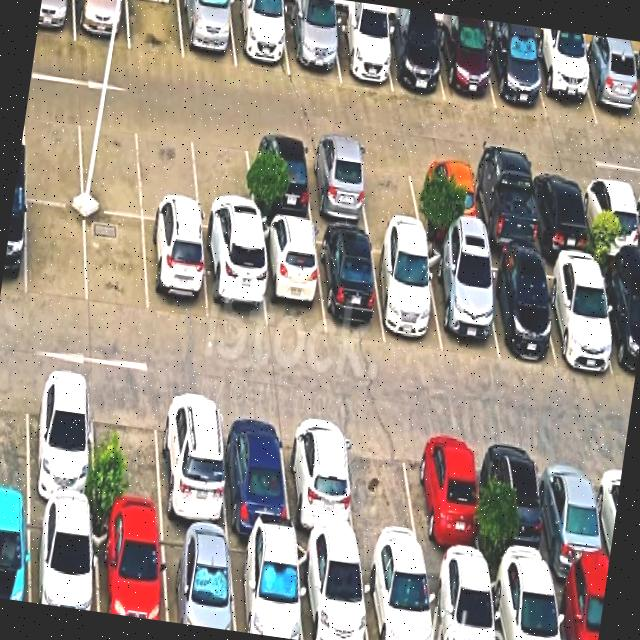empty: (342, 420, 423, 559), (93, 382, 163, 523), (79, 109, 142, 218), (192, 126, 255, 235), (139, 118, 200, 225), (86, 211, 148, 315), (23, 101, 82, 207), (27, 201, 87, 304), (357, 147, 422, 234), (0, 369, 28, 501), (127, 0, 184, 59)
occupied: (410, 427, 484, 568), (282, 411, 357, 549), (158, 392, 228, 532), (220, 401, 291, 538), (538, 443, 608, 581), (484, 435, 552, 574), (28, 371, 94, 512), (541, 256, 616, 373), (426, 247, 499, 360), (480, 253, 555, 362), (371, 237, 442, 352), (161, 525, 236, 631), (94, 516, 167, 622), (229, 535, 302, 640), (315, 229, 384, 340), (259, 222, 325, 335), (30, 505, 98, 612), (296, 544, 368, 640), (143, 220, 208, 321), (468, 162, 538, 254), (201, 230, 266, 329), (360, 555, 433, 640), (413, 155, 480, 244), (247, 134, 313, 224), (305, 141, 369, 229), (531, 40, 597, 125), (425, 561, 496, 640), (529, 168, 592, 255), (485, 31, 547, 117), (578, 46, 640, 131), (597, 262, 640, 382), (581, 174, 640, 261), (489, 569, 560, 640), (436, 25, 495, 108), (382, 22, 444, 100), (331, 14, 392, 91), (229, 0, 289, 75), (284, 7, 340, 81), (179, 0, 236, 68), (552, 575, 607, 640), (0, 502, 29, 602), (74, 0, 129, 49), (1, 195, 26, 296), (37, 0, 75, 41)
